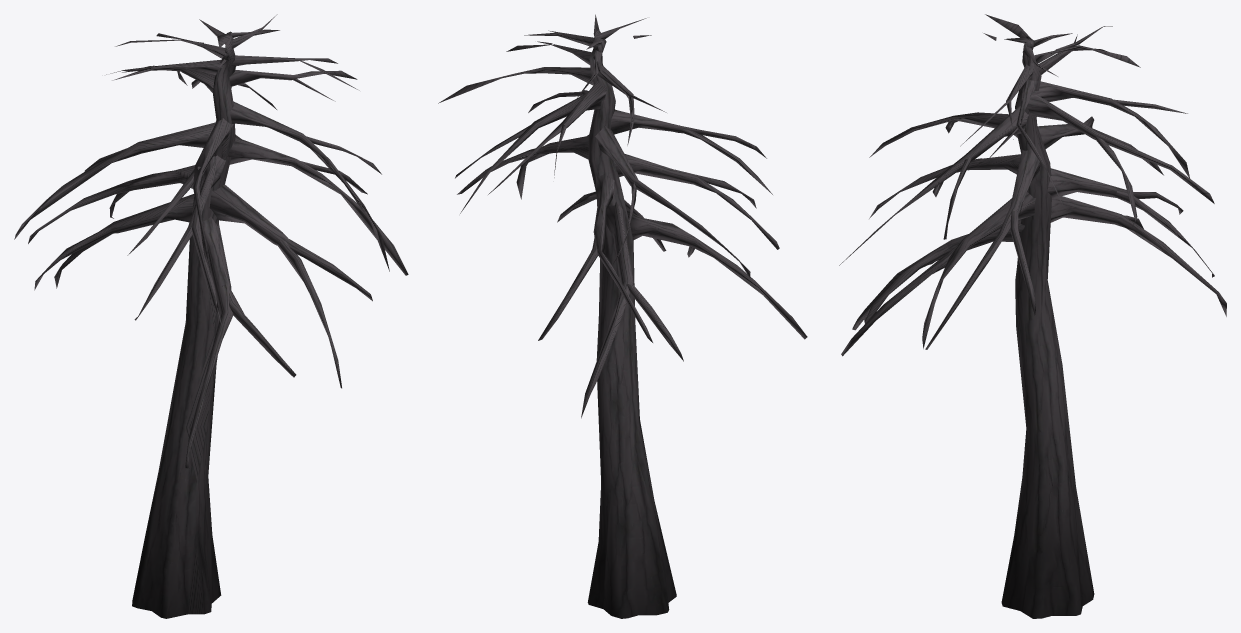
Rendered from DeadTree_4.medium.gltf.
The picture shows the model from 3 angles, left to right: view 1: azimuth 30°, elevation 25°; view 2: azimuth 150°, elevation 25°; view 3: azimuth 270°, elevation 25°; orthographic projection. The views are drawn at different scales.
Parts seen in each view (by area): view 1: DeadTree_4; view 2: DeadTree_4; view 3: DeadTree_4.
Part boxes in pixels (x1,y1,x2,y2): DeadTree_4: (14,14,408,618); DeadTree_4: (438,14,807,618); DeadTree_4: (839,14,1226,618).
Size of the model in its own units: 7.75 by 12.73 by 7.62.
1 material, 1 textured.
